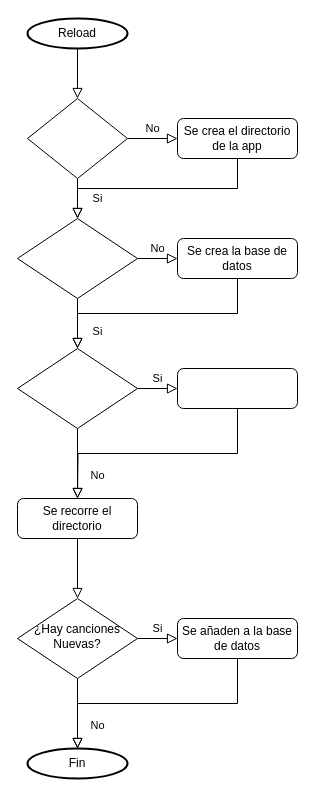
Image size: 315x796. Some labels were removed from this diagram. Each missing label, with the centre of its shape:
"Se eliminan de la base de datos" goes at point (237, 388).
"¿Base de datos Creada?" goes at point (77, 258).
"¿Directorio Creado?" goes at point (77, 138).
"¿Hay canciones borradas?" goes at point (77, 388).
